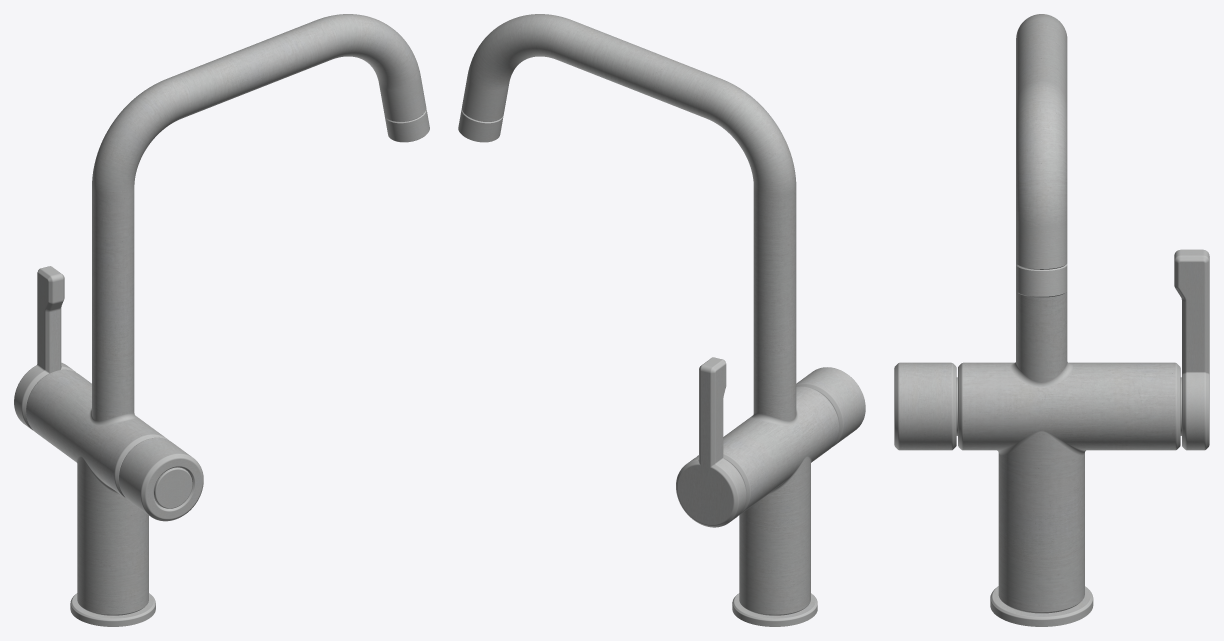
File: modern_tap.glb
3 views of the same model, side by side, from view 1: azimuth 30°, elevation 25°; view 2: azimuth 150°, elevation 25°; view 3: azimuth 270°, elevation 25° (orthographic). The views are drawn at different scales.
Parts seen in each view (by area): view 1: Object_3, Object_7, Object_5, Object_4; view 2: Object_3, Object_5, Object_7, Object_4; view 3: Object_3, Object_5, Object_7, Object_4.
Boxes of the visible parts, x1=… form: Object_3: x1=26, y1=14, x2=426, y2=615; Object_7: x1=119, y1=437, x2=203, y2=521; Object_5: x1=14, y1=110, x2=429, y2=430; Object_4: x1=70, y1=114, x2=422, y2=626; Object_3: x1=462, y1=14, x2=839, y2=615; Object_5: x1=458, y1=110, x2=746, y2=527; Object_7: x1=796, y1=367, x2=865, y2=446; Object_4: x1=469, y1=117, x2=817, y2=626; Object_3: x1=958, y1=14, x2=1180, y2=613; Object_5: x1=1016, y1=249, x2=1209, y2=450; Object_7: x1=894, y1=362, x2=956, y2=450; Object_4: x1=990, y1=265, x2=1093, y2=626.
Bounding box in the file's own units: 0.4066 × 0.5951 × 0.2622.
Materials: 1 (1 with a texture image).
